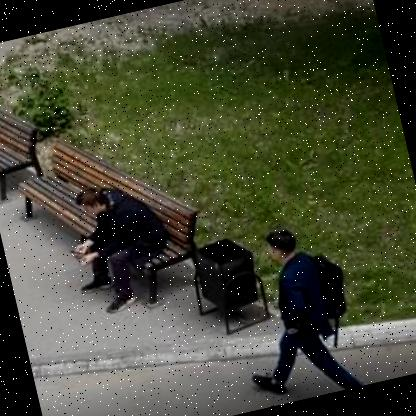person: (226, 209, 384, 408), (56, 169, 189, 324)
